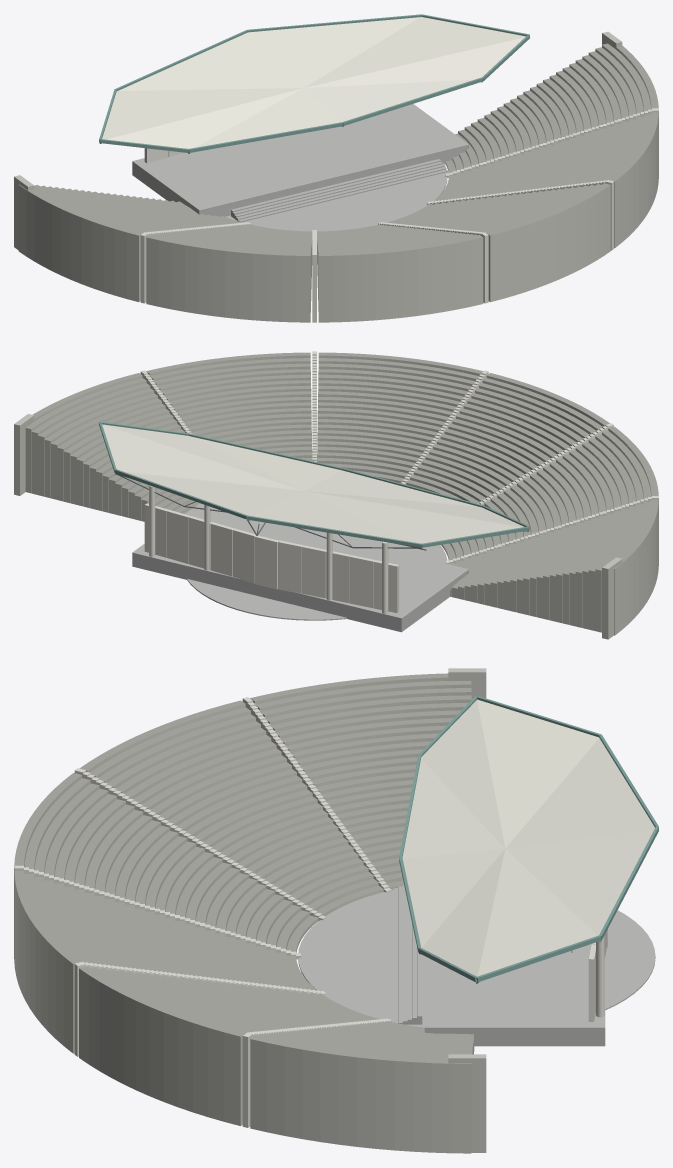
3 views of the same model, one above another, from view 1: azimuth 30°, elevation 25°; view 2: azimuth 150°, elevation 25°; view 3: azimuth 270°, elevation 25° (orthographic). The views are drawn at different scales.
Visible parts, largest first — view 1: tiered-seating-risers__stone, tiered-seating-treads__seating-tread, winged-canopy-membrane__membrane, raised-stage__concrete, round-orchestra-paving__concrete, radial-aisle-stairs__trim, canopy-green-fascia__roof, stage-access__concrete, estimated-seating-side-retainers__stone; view 2: tiered-seating-treads__seating-tread, tiered-seating-risers__stone, winged-canopy-membrane__membrane, segmented-stage-back-wall__trim, raised-stage__concrete, radial-aisle-stairs__trim, canopy-green-fascia__roof, round-orchestra-paving__concrete, estimated-seating-side-retainers__stone, rear-canopy-supports__trim, truss-lower-chords__metal; view 3: tiered-seating-treads__seating-tread, tiered-seating-risers__stone, winged-canopy-membrane__membrane, raised-stage__concrete, round-orchestra-paving__concrete, radial-aisle-stairs__trim, canopy-green-fascia__roof, stage-access__concrete, estimated-seating-side-retainers__stone, rear-canopy-supports__trim.
Boxes of the visible parts, <box> form: tiered-seating-risers__stone: <box>18,45,658,322</box>; tiered-seating-treads__seating-tread: <box>19,43,658,255</box>; winged-canopy-membrane__membrane: <box>102,17,525,148</box>; raised-stage__concrete: <box>132,104,468,216</box>; round-orchestra-paving__concrete: <box>225,163,447,231</box>; radial-aisle-stairs__trim: <box>140,108,658,322</box>; canopy-green-fascia__roof: <box>99,14,529,152</box>; stage-access__concrete: <box>231,159,448,222</box>; estimated-seating-side-retainers__stone: <box>14,31,622,249</box>; tiered-seating-treads__seating-tread: <box>26,352,658,589</box>; tiered-seating-risers__stone: <box>25,355,658,635</box>; winged-canopy-membrane__membrane: <box>102,424,523,543</box>; segmented-stage-back-wall__trim: <box>144,503,399,613</box>; raised-stage__concrete: <box>132,503,468,632</box>; radial-aisle-stairs__trim: <box>140,351,658,564</box>; canopy-green-fascia__roof: <box>99,421,530,547</box>; round-orchestra-paving__concrete: <box>187,529,447,620</box>; estimated-seating-side-retainers__stone: <box>14,414,622,639</box>; rear-canopy-supports__trim: <box>149,485,388,613</box>; truss-lower-chords__metal: <box>118,475,524,548</box>; tiered-seating-treads__seating-tread: <box>14,673,474,1063</box>; tiered-seating-risers__stone: <box>14,677,474,1153</box>; winged-canopy-membrane__membrane: <box>402,699,654,976</box>; raised-stage__concrete: <box>424,944,605,1046</box>; round-orchestra-paving__concrete: <box>298,889,655,1027</box>; radial-aisle-stairs__trim: <box>14,697,391,1127</box>; canopy-green-fascia__roof: <box>399,696,658,982</box>; stage-access__concrete: <box>393,884,422,1024</box>; estimated-seating-side-retainers__stone: <box>448,668,486,1152</box>; rear-canopy-supports__trim: <box>596,935,604,1017</box>.
Size of the model in its own units: 97.29 by 15.25 by 67.83.
